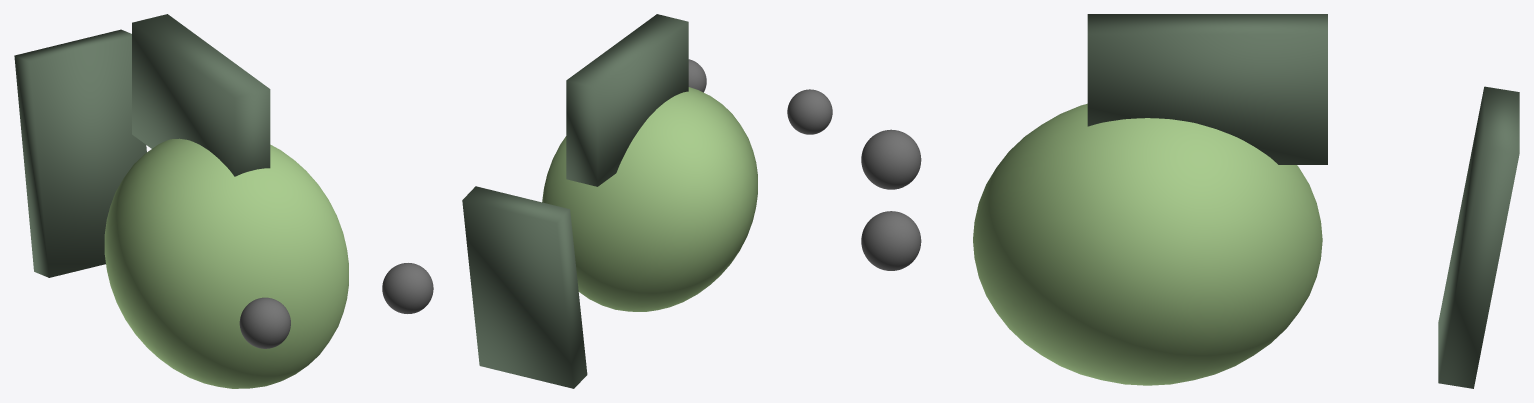
File: fish_grass_carp.glb
3 views of the same model, side by side, from view 1: azimuth 30°, elevation 25°; view 2: azimuth 150°, elevation 25°; view 3: azimuth 270°, elevation 25° (orthographic). The views are drawn at different scales.
Visible parts, largest first — view 1: body, tail, dorsal, eye-1, eye1; view 2: body, tail, dorsal, eye-1, eye1; view 3: body, dorsal, tail, eye-1, eye1.
Boxes of the visible parts, bbox=[...] form: body: bbox=[104, 138, 348, 388]; tail: bbox=[14, 29, 146, 277]; dorsal: bbox=[132, 14, 270, 176]; eye-1: bbox=[239, 297, 290, 348]; eye1: bbox=[382, 263, 433, 313]; body: bbox=[542, 87, 757, 311]; tail: bbox=[462, 186, 587, 388]; dorsal: bbox=[566, 14, 688, 186]; eye-1: bbox=[787, 89, 832, 134]; eye1: bbox=[688, 59, 706, 92]; body: bbox=[973, 103, 1322, 385]; dorsal: bbox=[1087, 14, 1327, 164]; tail: bbox=[1438, 86, 1519, 388]; eye-1: bbox=[861, 129, 921, 189]; eye1: bbox=[861, 211, 921, 270].
Size of the model in its own units: 0.2184 by 0.3221 by 0.5481.
